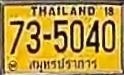0: (101, 19, 116, 52), (70, 19, 84, 53)
3: (26, 20, 41, 54)
4: (85, 19, 100, 53)
5: (53, 19, 68, 53)
7: (9, 20, 23, 54)
SPK: (27, 56, 98, 73)
